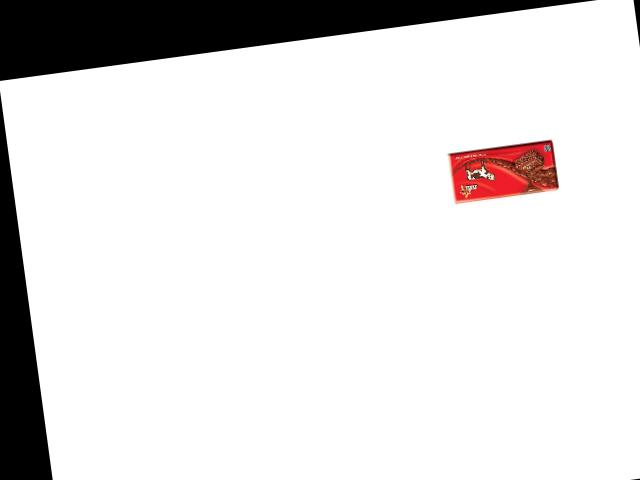chocolate: (458, 147, 563, 213)
